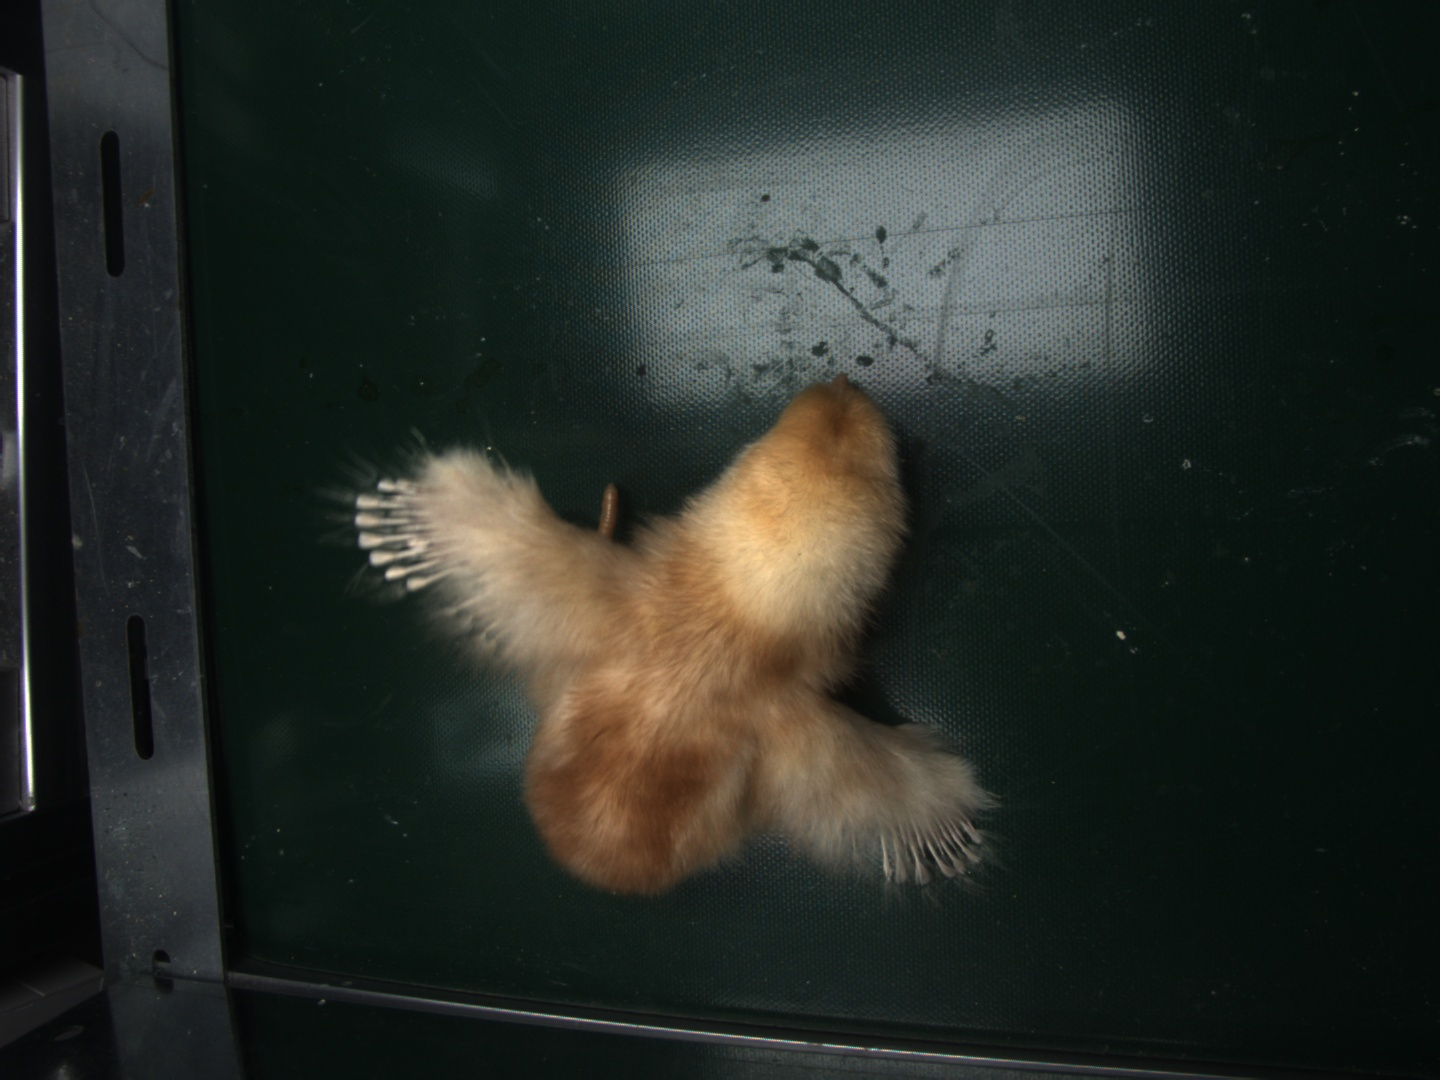female: (353, 479, 449, 587), (881, 807, 982, 879)
